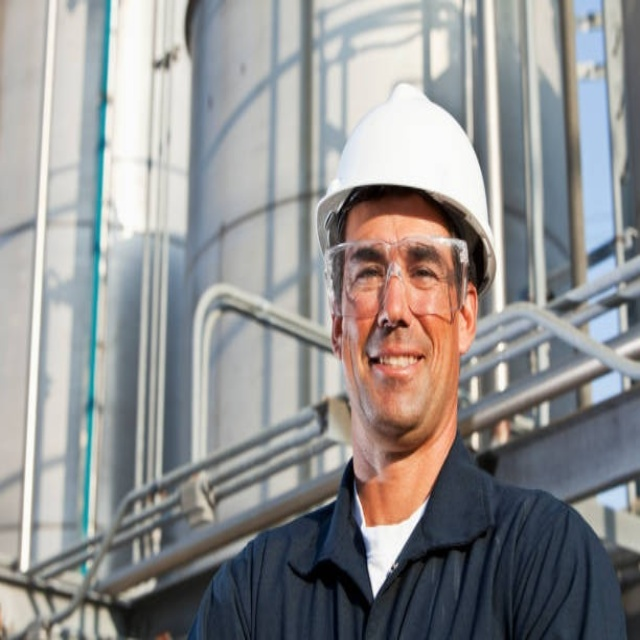Gafas: (324, 234, 472, 321)
Sin_mascara: (357, 328, 435, 417)
